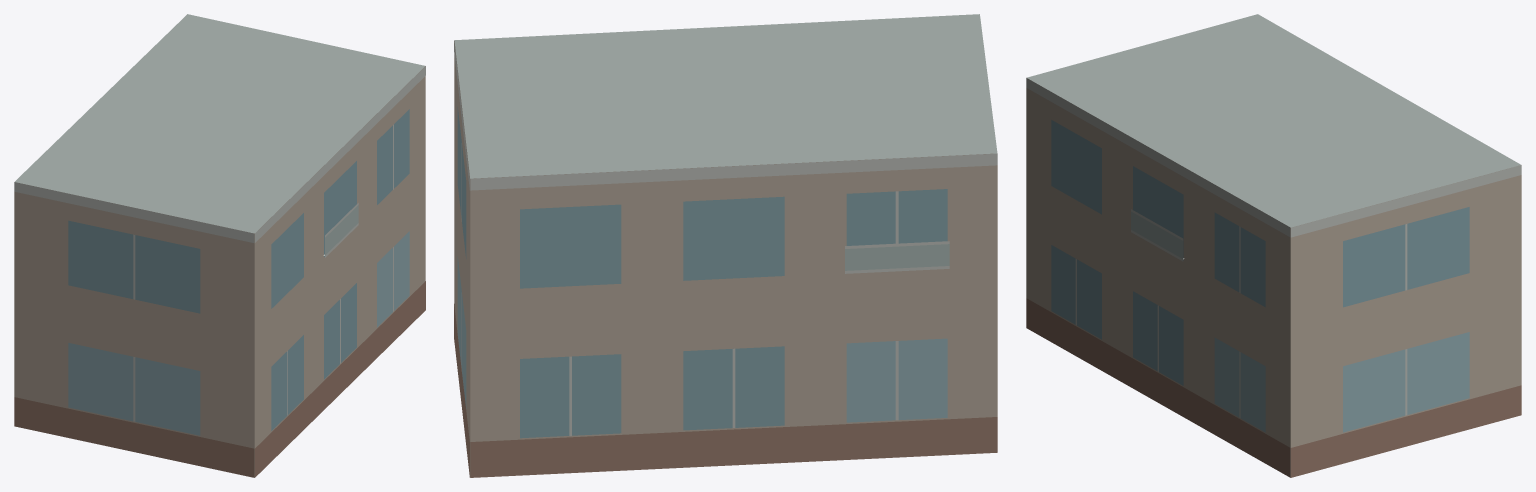
The model's file is survey-upis-32635182.glb.
The picture shows the model from 3 angles, left to right: view 1: azimuth 30°, elevation 25°; view 2: azimuth 150°, elevation 25°; view 3: azimuth 270°, elevation 25°; orthographic projection. The views are drawn at different scales.
Visible parts, largest first — view 1: survey-upis-32635182.tmp; view 2: survey-upis-32635182.tmp; view 3: survey-upis-32635182.tmp.
Part boxes in pixels (x1=…): survey-upis-32635182.tmp: x1=14, y1=14, x2=425, y2=477; survey-upis-32635182.tmp: x1=454, y1=14, x2=997, y2=477; survey-upis-32635182.tmp: x1=1026, y1=14, x2=1521, y2=477.
Size of the model in its own units: 11.18 by 6.1 by 10.95.
